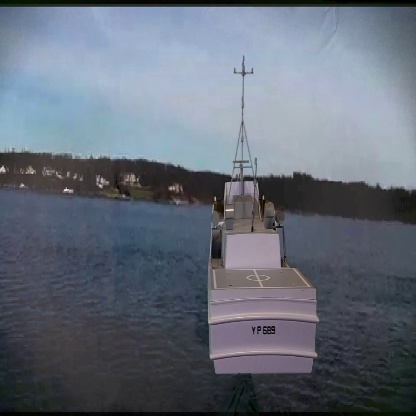YP689: (204, 53, 320, 375)
